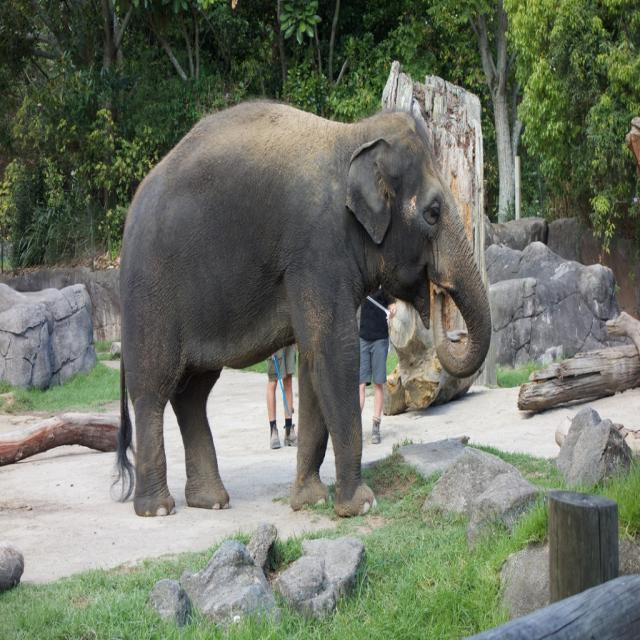elephant: (114, 91, 492, 526)
